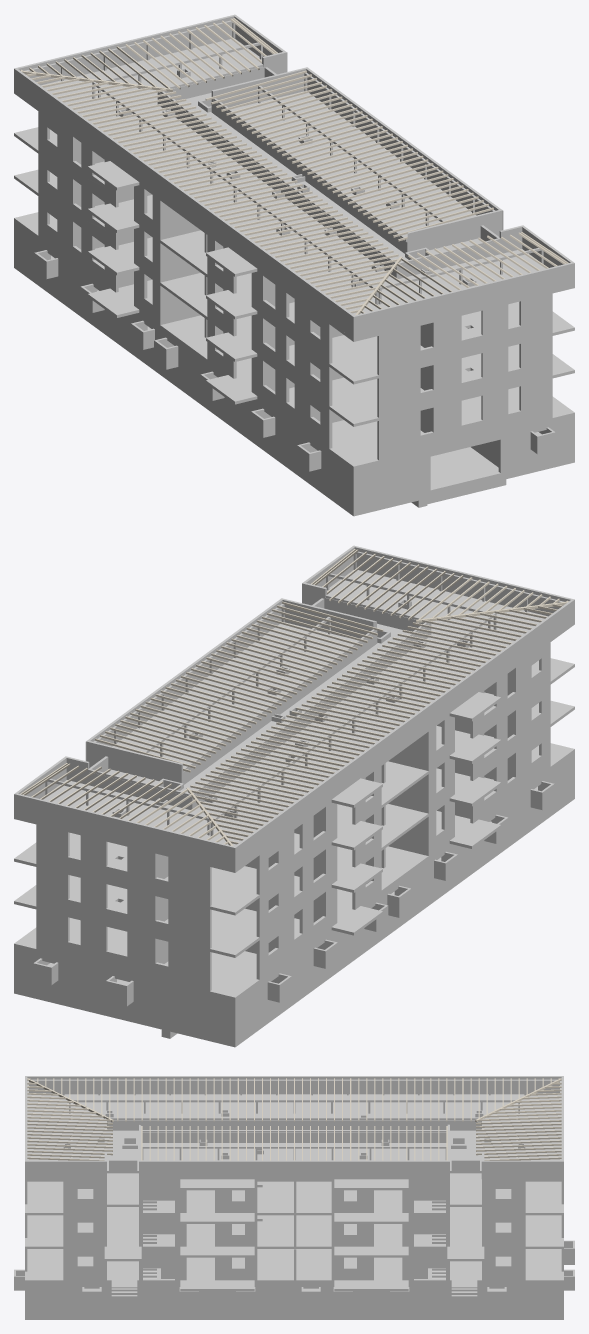
Rendered from koprivnica-building.gltf.
The picture shows the model from 3 angles, top to bottom: view 1: azimuth 30°, elevation 25°; view 2: azimuth 150°, elevation 25°; view 3: azimuth 270°, elevation 25°; orthographic projection. The views are drawn at different scales.
Visible parts, largest first — view 1: Decke.003, Wand.068, Decke, Decke.002, Decke.001, Wand.244, 3D_Element, Wand.002, Wand.074, Wand.122, Wand.098, Wand.145 (+27 smaller); view 2: Decke.003, Wand.068, Decke, Decke.001, Decke.002, Wand.244, Wand, Wand.084, Wand.137, Wand.108, Wand.243, 3D_Element (+27 smaller); view 3: Decke.003, Decke.001, Wand.001, Decke.002, Decke, Wand.244, Wand.254, Wand.247, 3D_Element, Wand.239, Wand.092, Wand.094 (+22 smaller).
Boxes of the visible parts, left/top/right/bottom form: Decke.003: left=14, top=39, right=574, bottom=341; Wand.068: left=14, top=221, right=353, bottom=508; Decke: left=14, top=212, right=574, bottom=469; Decke.002: left=14, top=127, right=574, bottom=384; Decke.001: left=14, top=169, right=574, bottom=426; Wand.244: left=14, top=68, right=354, bottom=338; 3D_Element: left=14, top=255, right=574, bottom=516; Wand.002: left=353, top=415, right=574, bottom=508; Wand.074: left=377, top=378, right=552, bottom=460; Wand.122: left=377, top=293, right=552, bottom=375; Wand.098: left=377, top=336, right=552, bottom=417; Wand.145: left=353, top=262, right=574, bottom=338; Decke.003: left=14, top=570, right=574, bottom=872; Wand.068: left=235, top=752, right=574, bottom=1039; Decke: left=14, top=743, right=574, bottom=1000; Decke.001: left=14, top=700, right=574, bottom=957; Decke.002: left=14, top=658, right=574, bottom=915; Wand.244: left=234, top=599, right=574, bottom=869; Wand: left=14, top=946, right=235, bottom=1039; Wand.084: left=36, top=909, right=211, bottom=991; Wand.137: left=36, top=824, right=211, bottom=906; Wand.108: left=36, top=867, right=211, bottom=948; Wand.243: left=14, top=793, right=235, bottom=869; 3D_Element: left=14, top=786, right=574, bottom=1047; Decke.003: left=25, top=1094, right=563, bottom=1190; Decke.001: left=25, top=1200, right=563, bottom=1261; Wand.001: left=25, top=1282, right=563, bottom=1313; Decke.002: left=25, top=1144, right=563, bottom=1223; Decke: left=25, top=1234, right=563, bottom=1291; Wand.244: left=25, top=1076, right=563, bottom=1094; Wand.254: left=139, top=1160, right=449, bottom=1179; Wand.247: left=107, top=1120, right=481, bottom=1130; 3D_Element: left=25, top=1268, right=563, bottom=1319; Wand.239: left=142, top=1132, right=446, bottom=1142; Wand.092: left=139, top=1249, right=257, bottom=1280; Wand.094: left=331, top=1249, right=449, bottom=1280.
Bounding box in the file's own units: 19.65 × 14.1 × 43.7.
